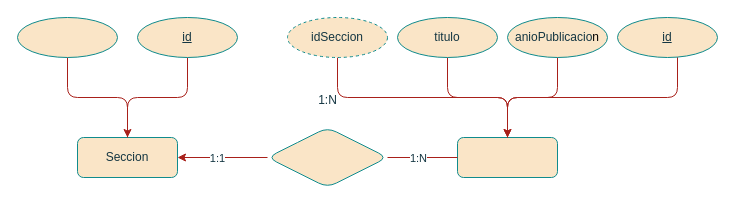
This 735x205 diagram has some shape labels left out. The shapes that lost their labels are listed below. From the top down, each one's box as (x1, y1, x2, y2) in pixels, then its label:
(16, 16, 118, 58): nombre
(266, 126, 388, 188): Posee
(456, 136, 558, 178): Libro
